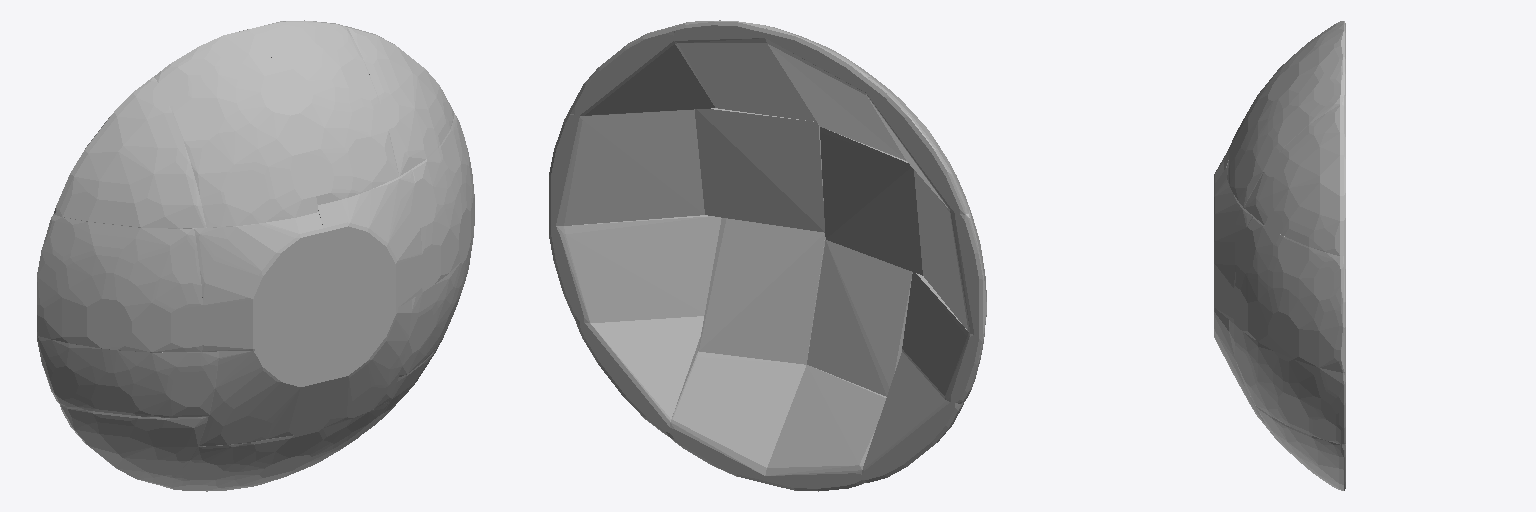
robot.urdf — root:
<robot name="root">
  <link name="link_coacd_convex_piece_0">
    <inertial>
      <origin xyz="0 0 0" rpy="0 0 0"/>
      <inertia ixx="2.42E-03" ixy="-5.11E-04" ixz="-2.14E-03" iyy="4.51E-03" iyz="-5.12E-04" izz="2.40E-03"/>
    </inertial>
    <visual>
      <origin xyz="0 0 0" rpy="0 0 0"/>
      <geometry>
        <mesh filename="coacd_convex_piece_0.obj" scale="1.0000E+00 1.0000E+00 1.0000E+00"/>
      </geometry>
      <material name="">
        <color rgba="7.50E-01 7.50E-01 7.50E-01 1"/>
      </material>
    </visual>
    <collision>
      <origin xyz="0 0 0" rpy="0 0 0"/>
      <geometry>
        <mesh filename="coacd_convex_piece_0.obj" scale="1.0000E+00 1.0000E+00 1.0000E+00"/>
      </geometry>
    </collision>
  </link>
  <link name="link_coacd_convex_piece_1">
    <inertial>
      <origin xyz="0 0 0" rpy="0 0 0"/>
      <inertia ixx="5.27E-03" ixy="-9.07E-05" ixz="-1.42E-03" iyy="5.68E-03" iyz="-4.17E-04" izz="7.22E-04"/>
    </inertial>
    <visual>
      <origin xyz="0 0 0" rpy="0 0 0"/>
      <geometry>
        <mesh filename="coacd_convex_piece_1.obj" scale="1.0000E+00 1.0000E+00 1.0000E+00"/>
      </geometry>
      <material name="">
        <color rgba="7.50E-01 7.50E-01 7.50E-01 1"/>
      </material>
    </visual>
    <collision>
      <origin xyz="0 0 0" rpy="0 0 0"/>
      <geometry>
        <mesh filename="coacd_convex_piece_1.obj" scale="1.0000E+00 1.0000E+00 1.0000E+00"/>
      </geometry>
    </collision>
  </link>
  <joint name="link_coacd_convex_piece_1_joint" type="fixed">
    <origin xyz="0 0 0" rpy="0 0 0"/>
    <parent link="link_coacd_convex_piece_0"/>
    <child link="link_coacd_convex_piece_1"/>
  </joint>
  <link name="link_coacd_convex_piece_2">
    <inertial>
      <origin xyz="0 0 0" rpy="0 0 0"/>
      <inertia ixx="6.48E-04" ixy="-5.73E-04" ixz="-1.22E-03" iyy="6.33E-03" iyz="-1.15E-04" izz="6.01E-03"/>
    </inertial>
    <visual>
      <origin xyz="0 0 0" rpy="0 0 0"/>
      <geometry>
        <mesh filename="coacd_convex_piece_2.obj" scale="1.0000E+00 1.0000E+00 1.0000E+00"/>
      </geometry>
      <material name="">
        <color rgba="7.50E-01 7.50E-01 7.50E-01 1"/>
      </material>
    </visual>
    <collision>
      <origin xyz="0 0 0" rpy="0 0 0"/>
      <geometry>
        <mesh filename="coacd_convex_piece_2.obj" scale="1.0000E+00 1.0000E+00 1.0000E+00"/>
      </geometry>
    </collision>
  </link>
  <joint name="link_coacd_convex_piece_2_joint" type="fixed">
    <origin xyz="0 0 0" rpy="0 0 0"/>
    <parent link="link_coacd_convex_piece_1"/>
    <child link="link_coacd_convex_piece_2"/>
  </joint>
  <link name="link_coacd_convex_piece_3">
    <inertial>
      <origin xyz="0 0 0" rpy="0 0 0"/>
      <inertia ixx="9.14E-04" ixy="4.58E-04" ixz="-4.62E-04" iyy="1.43E-03" iyz="3.10E-04" izz="1.28E-03"/>
    </inertial>
    <visual>
      <origin xyz="0 0 0" rpy="0 0 0"/>
      <geometry>
        <mesh filename="coacd_convex_piece_3.obj" scale="1.0000E+00 1.0000E+00 1.0000E+00"/>
      </geometry>
      <material name="">
        <color rgba="7.50E-01 7.50E-01 7.50E-01 1"/>
      </material>
    </visual>
    <collision>
      <origin xyz="0 0 0" rpy="0 0 0"/>
      <geometry>
        <mesh filename="coacd_convex_piece_3.obj" scale="1.0000E+00 1.0000E+00 1.0000E+00"/>
      </geometry>
    </collision>
  </link>
  <joint name="link_coacd_convex_piece_3_joint" type="fixed">
    <origin xyz="0 0 0" rpy="0 0 0"/>
    <parent link="link_coacd_convex_piece_2"/>
    <child link="link_coacd_convex_piece_3"/>
  </joint>
  <link name="link_coacd_convex_piece_4">
    <inertial>
      <origin xyz="0 0 0" rpy="0 0 0"/>
      <inertia ixx="8.94E-04" ixy="-4.13E-04" ixz="1.63E-03" iyy="5.05E-03" iyz="1.32E-04" izz="4.42E-03"/>
    </inertial>
    <visual>
      <origin xyz="0 0 0" rpy="0 0 0"/>
      <geometry>
        <mesh filename="coacd_convex_piece_4.obj" scale="1.0000E+00 1.0000E+00 1.0000E+00"/>
      </geometry>
      <material name="">
        <color rgba="7.50E-01 7.50E-01 7.50E-01 1"/>
      </material>
    </visual>
    <collision>
      <origin xyz="0 0 0" rpy="0 0 0"/>
      <geometry>
        <mesh filename="coacd_convex_piece_4.obj" scale="1.0000E+00 1.0000E+00 1.0000E+00"/>
      </geometry>
    </collision>
  </link>
  <joint name="link_coacd_convex_piece_4_joint" type="fixed">
    <origin xyz="0 0 0" rpy="0 0 0"/>
    <parent link="link_coacd_convex_piece_3"/>
    <child link="link_coacd_convex_piece_4"/>
  </joint>
  <link name="link_coacd_convex_piece_5">
    <inertial>
      <origin xyz="0 0 0" rpy="0 0 0"/>
      <inertia ixx="1.90E-03" ixy="-3.96E-04" ixz="1.61E-03" iyy="3.36E-03" iyz="4.19E-04" izz="1.71E-03"/>
    </inertial>
    <visual>
      <origin xyz="0 0 0" rpy="0 0 0"/>
      <geometry>
        <mesh filename="coacd_convex_piece_5.obj" scale="1.0000E+00 1.0000E+00 1.0000E+00"/>
      </geometry>
      <material name="">
        <color rgba="7.50E-01 7.50E-01 7.50E-01 1"/>
      </material>
    </visual>
    <collision>
      <origin xyz="0 0 0" rpy="0 0 0"/>
      <geometry>
        <mesh filename="coacd_convex_piece_5.obj" scale="1.0000E+00 1.0000E+00 1.0000E+00"/>
      </geometry>
    </collision>
  </link>
  <joint name="link_coacd_convex_piece_5_joint" type="fixed">
    <origin xyz="0 0 0" rpy="0 0 0"/>
    <parent link="link_coacd_convex_piece_4"/>
    <child link="link_coacd_convex_piece_5"/>
  </joint>
  <link name="link_coacd_convex_piece_6">
    <inertial>
      <origin xyz="0 0 0" rpy="0 0 0"/>
      <inertia ixx="1.66E-03" ixy="2.98E-04" ixz="7.58E-04" iyy="2.03E-03" iyz="-4.50E-04" izz="8.91E-04"/>
    </inertial>
    <visual>
      <origin xyz="0 0 0" rpy="0 0 0"/>
      <geometry>
        <mesh filename="coacd_convex_piece_6.obj" scale="1.0000E+00 1.0000E+00 1.0000E+00"/>
      </geometry>
      <material name="">
        <color rgba="7.50E-01 7.50E-01 7.50E-01 1"/>
      </material>
    </visual>
    <collision>
      <origin xyz="0 0 0" rpy="0 0 0"/>
      <geometry>
        <mesh filename="coacd_convex_piece_6.obj" scale="1.0000E+00 1.0000E+00 1.0000E+00"/>
      </geometry>
    </collision>
  </link>
  <joint name="link_coacd_convex_piece_6_joint" type="fixed">
    <origin xyz="0 0 0" rpy="0 0 0"/>
    <parent link="link_coacd_convex_piece_5"/>
    <child link="link_coacd_convex_piece_6"/>
  </joint>
  <link name="link_coacd_convex_piece_7">
    <inertial>
      <origin xyz="0 0 0" rpy="0 0 0"/>
      <inertia ixx="4.06E-03" ixy="-1.40E-04" ixz="1.02E-03" iyy="4.31E-03" iyz="5.30E-04" izz="4.88E-04"/>
    </inertial>
    <visual>
      <origin xyz="0 0 0" rpy="0 0 0"/>
      <geometry>
        <mesh filename="coacd_convex_piece_7.obj" scale="1.0000E+00 1.0000E+00 1.0000E+00"/>
      </geometry>
      <material name="">
        <color rgba="7.50E-01 7.50E-01 7.50E-01 1"/>
      </material>
    </visual>
    <collision>
      <origin xyz="0 0 0" rpy="0 0 0"/>
      <geometry>
        <mesh filename="coacd_convex_piece_7.obj" scale="1.0000E+00 1.0000E+00 1.0000E+00"/>
      </geometry>
    </collision>
  </link>
  <joint name="link_coacd_convex_piece_7_joint" type="fixed">
    <origin xyz="0 0 0" rpy="0 0 0"/>
    <parent link="link_coacd_convex_piece_6"/>
    <child link="link_coacd_convex_piece_7"/>
  </joint>
  <link name="link_coacd_convex_piece_8">
    <inertial>
      <origin xyz="0 0 0" rpy="0 0 0"/>
      <inertia ixx="5.89E-03" ixy="1.15E-04" ixz="1.76E-03" iyy="6.48E-03" iyz="-4.70E-04" izz="9.66E-04"/>
    </inertial>
    <visual>
      <origin xyz="0 0 0" rpy="0 0 0"/>
      <geometry>
        <mesh filename="coacd_convex_piece_8.obj" scale="1.0000E+00 1.0000E+00 1.0000E+00"/>
      </geometry>
      <material name="">
        <color rgba="7.50E-01 7.50E-01 7.50E-01 1"/>
      </material>
    </visual>
    <collision>
      <origin xyz="0 0 0" rpy="0 0 0"/>
      <geometry>
        <mesh filename="coacd_convex_piece_8.obj" scale="1.0000E+00 1.0000E+00 1.0000E+00"/>
      </geometry>
    </collision>
  </link>
  <joint name="link_coacd_convex_piece_8_joint" type="fixed">
    <origin xyz="0 0 0" rpy="0 0 0"/>
    <parent link="link_coacd_convex_piece_7"/>
    <child link="link_coacd_convex_piece_8"/>
  </joint>
  <link name="link_coacd_convex_piece_9">
    <inertial>
      <origin xyz="0 0 0" rpy="0 0 0"/>
      <inertia ixx="2.09E-03" ixy="5.06E-04" ixz="2.01E-03" iyy="4.23E-03" iyz="-4.68E-04" izz="2.43E-03"/>
    </inertial>
    <visual>
      <origin xyz="0 0 0" rpy="0 0 0"/>
      <geometry>
        <mesh filename="coacd_convex_piece_9.obj" scale="1.0000E+00 1.0000E+00 1.0000E+00"/>
      </geometry>
      <material name="">
        <color rgba="7.50E-01 7.50E-01 7.50E-01 1"/>
      </material>
    </visual>
    <collision>
      <origin xyz="0 0 0" rpy="0 0 0"/>
      <geometry>
        <mesh filename="coacd_convex_piece_9.obj" scale="1.0000E+00 1.0000E+00 1.0000E+00"/>
      </geometry>
    </collision>
  </link>
  <joint name="link_coacd_convex_piece_9_joint" type="fixed">
    <origin xyz="0 0 0" rpy="0 0 0"/>
    <parent link="link_coacd_convex_piece_8"/>
    <child link="link_coacd_convex_piece_9"/>
  </joint>
  <link name="link_coacd_convex_piece_10">
    <inertial>
      <origin xyz="0 0 0" rpy="0 0 0"/>
      <inertia ixx="8.54E-04" ixy="-4.82E-04" ixz="4.06E-04" iyy="1.41E-03" iyz="2.70E-04" izz="1.35E-03"/>
    </inertial>
    <visual>
      <origin xyz="0 0 0" rpy="0 0 0"/>
      <geometry>
        <mesh filename="coacd_convex_piece_10.obj" scale="1.0000E+00 1.0000E+00 1.0000E+00"/>
      </geometry>
      <material name="">
        <color rgba="7.50E-01 7.50E-01 7.50E-01 1"/>
      </material>
    </visual>
    <collision>
      <origin xyz="0 0 0" rpy="0 0 0"/>
      <geometry>
        <mesh filename="coacd_convex_piece_10.obj" scale="1.0000E+00 1.0000E+00 1.0000E+00"/>
      </geometry>
    </collision>
  </link>
  <joint name="link_coacd_convex_piece_10_joint" type="fixed">
    <origin xyz="0 0 0" rpy="0 0 0"/>
    <parent link="link_coacd_convex_piece_9"/>
    <child link="link_coacd_convex_piece_10"/>
  </joint>
  <link name="link_coacd_convex_piece_11">
    <inertial>
      <origin xyz="0 0 0" rpy="0 0 0"/>
      <inertia ixx="5.80E-04" ixy="5.99E-04" ixz="1.03E-03" iyy="6.40E-03" iyz="-1.01E-04" izz="6.16E-03"/>
    </inertial>
    <visual>
      <origin xyz="0 0 0" rpy="0 0 0"/>
      <geometry>
        <mesh filename="coacd_convex_piece_11.obj" scale="1.0000E+00 1.0000E+00 1.0000E+00"/>
      </geometry>
      <material name="">
        <color rgba="7.50E-01 7.50E-01 7.50E-01 1"/>
      </material>
    </visual>
    <collision>
      <origin xyz="0 0 0" rpy="0 0 0"/>
      <geometry>
        <mesh filename="coacd_convex_piece_11.obj" scale="1.0000E+00 1.0000E+00 1.0000E+00"/>
      </geometry>
    </collision>
  </link>
  <joint name="link_coacd_convex_piece_11_joint" type="fixed">
    <origin xyz="0 0 0" rpy="0 0 0"/>
    <parent link="link_coacd_convex_piece_10"/>
    <child link="link_coacd_convex_piece_11"/>
  </joint>
  <link name="link_coacd_convex_piece_12">
    <inertial>
      <origin xyz="0 0 0" rpy="0 0 0"/>
      <inertia ixx="1.63E-03" ixy="-2.79E-04" ixz="-7.57E-04" iyy="2.00E-03" iyz="-4.37E-04" izz="8.53E-04"/>
    </inertial>
    <visual>
      <origin xyz="0 0 0" rpy="0 0 0"/>
      <geometry>
        <mesh filename="coacd_convex_piece_12.obj" scale="1.0000E+00 1.0000E+00 1.0000E+00"/>
      </geometry>
      <material name="">
        <color rgba="7.50E-01 7.50E-01 7.50E-01 1"/>
      </material>
    </visual>
    <collision>
      <origin xyz="0 0 0" rpy="0 0 0"/>
      <geometry>
        <mesh filename="coacd_convex_piece_12.obj" scale="1.0000E+00 1.0000E+00 1.0000E+00"/>
      </geometry>
    </collision>
  </link>
  <joint name="link_coacd_convex_piece_12_joint" type="fixed">
    <origin xyz="0 0 0" rpy="0 0 0"/>
    <parent link="link_coacd_convex_piece_11"/>
    <child link="link_coacd_convex_piece_12"/>
  </joint>
  <link name="link_coacd_convex_piece_13">
    <inertial>
      <origin xyz="0 0 0" rpy="0 0 0"/>
      <inertia ixx="4.21E-03" ixy="1.48E-04" ixz="-1.09E-03" iyy="4.49E-03" iyz="5.47E-04" izz="5.24E-04"/>
    </inertial>
    <visual>
      <origin xyz="0 0 0" rpy="0 0 0"/>
      <geometry>
        <mesh filename="coacd_convex_piece_13.obj" scale="1.0000E+00 1.0000E+00 1.0000E+00"/>
      </geometry>
      <material name="">
        <color rgba="7.50E-01 7.50E-01 7.50E-01 1"/>
      </material>
    </visual>
    <collision>
      <origin xyz="0 0 0" rpy="0 0 0"/>
      <geometry>
        <mesh filename="coacd_convex_piece_13.obj" scale="1.0000E+00 1.0000E+00 1.0000E+00"/>
      </geometry>
    </collision>
  </link>
  <joint name="link_coacd_convex_piece_13_joint" type="fixed">
    <origin xyz="0 0 0" rpy="0 0 0"/>
    <parent link="link_coacd_convex_piece_12"/>
    <child link="link_coacd_convex_piece_13"/>
  </joint>
  <link name="link_coacd_convex_piece_14">
    <inertial>
      <origin xyz="0 0 0" rpy="0 0 0"/>
      <inertia ixx="6.87E-04" ixy="3.38E-04" ixz="-1.32E-03" iyy="4.12E-03" iyz="1.02E-04" izz="3.65E-03"/>
    </inertial>
    <visual>
      <origin xyz="0 0 0" rpy="0 0 0"/>
      <geometry>
        <mesh filename="coacd_convex_piece_14.obj" scale="1.0000E+00 1.0000E+00 1.0000E+00"/>
      </geometry>
      <material name="">
        <color rgba="7.50E-01 7.50E-01 7.50E-01 1"/>
      </material>
    </visual>
    <collision>
      <origin xyz="0 0 0" rpy="0 0 0"/>
      <geometry>
        <mesh filename="coacd_convex_piece_14.obj" scale="1.0000E+00 1.0000E+00 1.0000E+00"/>
      </geometry>
    </collision>
  </link>
  <joint name="link_coacd_convex_piece_14_joint" type="fixed">
    <origin xyz="0 0 0" rpy="0 0 0"/>
    <parent link="link_coacd_convex_piece_13"/>
    <child link="link_coacd_convex_piece_14"/>
  </joint>
  <link name="link_coacd_convex_piece_15">
    <inertial>
      <origin xyz="0 0 0" rpy="0 0 0"/>
      <inertia ixx="2.12E-03" ixy="4.67E-04" ixz="-1.91E-03" iyy="3.99E-03" iyz="4.62E-04" izz="2.15E-03"/>
    </inertial>
    <visual>
      <origin xyz="0 0 0" rpy="0 0 0"/>
      <geometry>
        <mesh filename="coacd_convex_piece_15.obj" scale="1.0000E+00 1.0000E+00 1.0000E+00"/>
      </geometry>
      <material name="">
        <color rgba="7.50E-01 7.50E-01 7.50E-01 1"/>
      </material>
    </visual>
    <collision>
      <origin xyz="0 0 0" rpy="0 0 0"/>
      <geometry>
        <mesh filename="coacd_convex_piece_15.obj" scale="1.0000E+00 1.0000E+00 1.0000E+00"/>
      </geometry>
    </collision>
  </link>
  <joint name="link_coacd_convex_piece_15_joint" type="fixed">
    <origin xyz="0 0 0" rpy="0 0 0"/>
    <parent link="link_coacd_convex_piece_14"/>
    <child link="link_coacd_convex_piece_15"/>
  </joint>
</robot>

--- What the picture shows (computed from the rendered views, not written in the file) ---
3 views of the same robot in one strip: view 1: azimuth 30°, elevation 25°; view 2: azimuth 150°, elevation 25°; view 3: azimuth 270°, elevation 25° (orthographic).
Model root with 16 links and 15 joints (15 fixed), rooted at link_coacd_convex_piece_0, posed every joint at zero.
Visible links, largest first — view 1: link_coacd_convex_piece_8, link_coacd_convex_piece_11, link_coacd_convex_piece_10, link_coacd_convex_piece_1, link_coacd_convex_piece_9, link_coacd_convex_piece_3, link_coacd_convex_piece_14, link_coacd_convex_piece_12, link_coacd_convex_piece_6, link_coacd_convex_piece_0, link_coacd_convex_piece_2, link_coacd_convex_piece_15 (+4 smaller); view 2: link_coacd_convex_piece_2, link_coacd_convex_piece_4, link_coacd_convex_piece_6, link_coacd_convex_piece_3, link_coacd_convex_piece_7, link_coacd_convex_piece_12, link_coacd_convex_piece_10, link_coacd_convex_piece_13, link_coacd_convex_piece_5, link_coacd_convex_piece_1, link_coacd_convex_piece_0, link_coacd_convex_piece_8 (+4 smaller); view 3: link_coacd_convex_piece_2, link_coacd_convex_piece_0, link_coacd_convex_piece_1, link_coacd_convex_piece_4, link_coacd_convex_piece_3, link_coacd_convex_piece_5, link_coacd_convex_piece_8, link_coacd_convex_piece_6.
Boxes of the visible links, bbox=[...] form: link_coacd_convex_piece_8: bbox=[154, 28, 318, 227]; link_coacd_convex_piece_11: bbox=[37, 214, 202, 352]; link_coacd_convex_piece_10: bbox=[194, 212, 324, 351]; link_coacd_convex_piece_1: bbox=[256, 20, 398, 204]; link_coacd_convex_piece_9: bbox=[54, 77, 206, 228]; link_coacd_convex_piece_3: bbox=[318, 169, 421, 326]; link_coacd_convex_piece_14: bbox=[37, 336, 218, 417]; link_coacd_convex_piece_12: bbox=[199, 334, 324, 446]; link_coacd_convex_piece_6: bbox=[307, 299, 411, 431]; link_coacd_convex_piece_0: bbox=[346, 26, 453, 176]; link_coacd_convex_piece_2: bbox=[412, 113, 474, 291]; link_coacd_convex_piece_15: bbox=[60, 405, 207, 484]; link_coacd_convex_piece_2: bbox=[549, 109, 704, 225]; link_coacd_convex_piece_4: bbox=[549, 215, 721, 322]; link_coacd_convex_piece_6: bbox=[698, 218, 825, 364]; link_coacd_convex_piece_3: bbox=[695, 108, 824, 232]; link_coacd_convex_piece_7: bbox=[670, 351, 805, 483]; link_coacd_convex_piece_12: bbox=[807, 240, 912, 396]; link_coacd_convex_piece_10: bbox=[820, 127, 922, 275]; link_coacd_convex_piece_13: bbox=[765, 365, 886, 491]; link_coacd_convex_piece_5: bbox=[575, 316, 703, 437]; link_coacd_convex_piece_1: bbox=[674, 20, 816, 121]; link_coacd_convex_piece_0: bbox=[569, 25, 714, 115]; link_coacd_convex_piece_8: bbox=[765, 26, 905, 160]; link_coacd_convex_piece_2: bbox=[1233, 216, 1345, 372]; link_coacd_convex_piece_0: bbox=[1244, 105, 1345, 255]; link_coacd_convex_piece_1: bbox=[1227, 43, 1345, 207]; link_coacd_convex_piece_4: bbox=[1229, 320, 1345, 444]; link_coacd_convex_piece_3: bbox=[1214, 168, 1252, 322]; link_coacd_convex_piece_5: bbox=[1255, 405, 1345, 490]; link_coacd_convex_piece_8: bbox=[1224, 21, 1345, 169]; link_coacd_convex_piece_6: bbox=[1214, 308, 1265, 424].
Size in the robot's own frame: 1.89 by 0.5333 by 1.89 metres.
16 mesh visuals loaded from 16 distinct referenced files (16 OBJ).
